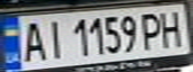1: (66, 15, 90, 57), (87, 15, 106, 56)
5: (103, 12, 124, 54)
9: (118, 12, 142, 53)
A: (18, 18, 48, 63)
H: (157, 7, 190, 48)
I: (42, 16, 66, 61)
P: (136, 10, 169, 51)
